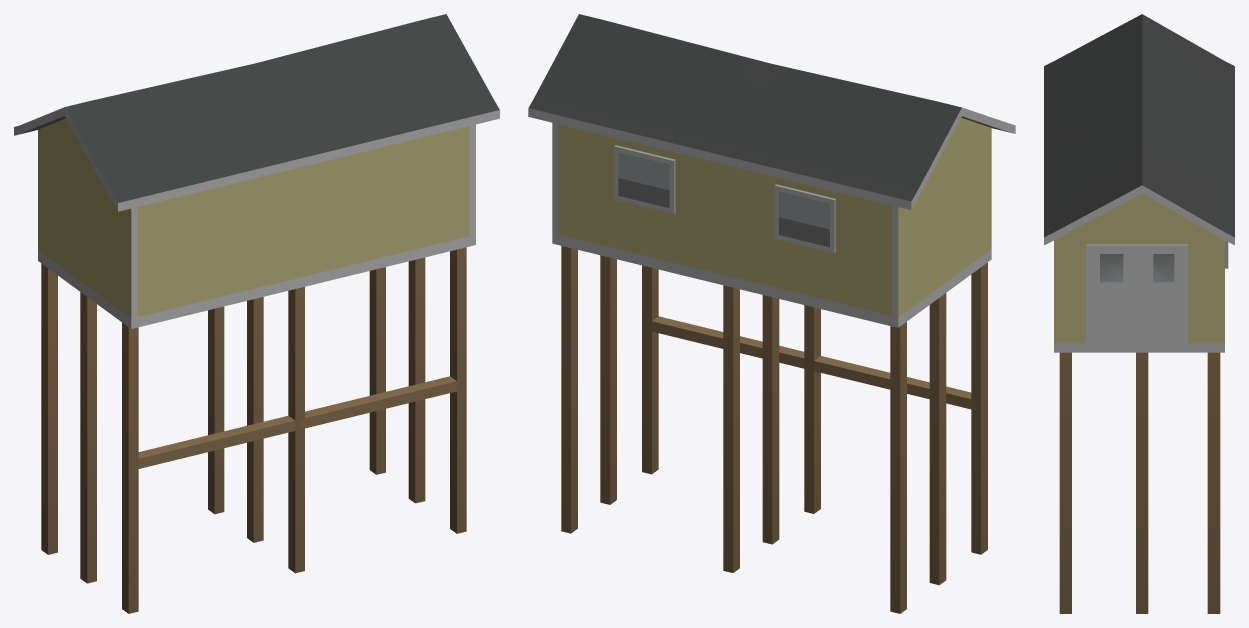
The model's file is YellowStiltHouse2.FBX.
3 views of the same model, side by side, from view 1: azimuth 30°, elevation 25°; view 2: azimuth 150°, elevation 25°; view 3: azimuth 270°, elevation 25° (orthographic). The views are drawn at different scales.
Visible parts, largest first — view 1: YellowHouseOnStilts; view 2: YellowHouseOnStilts; view 3: YellowHouseOnStilts.
Part boxes in pixels (x1,y1,x2,y2): YellowHouseOnStilts: (14, 14, 499, 613); YellowHouseOnStilts: (528, 14, 1015, 613); YellowHouseOnStilts: (1044, 14, 1234, 613).
Bounding box in the file's own units: 105 × 125 × 49.33.
